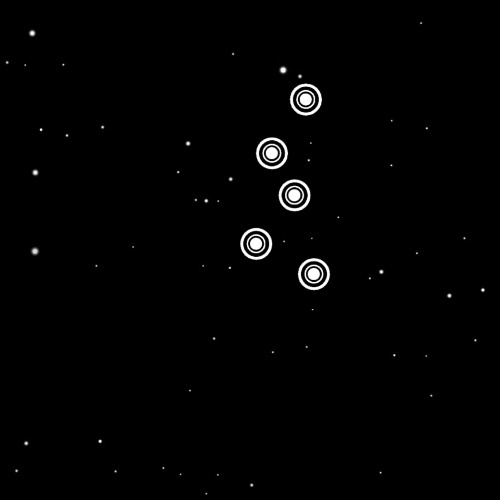cassiopeia: (227, 69, 344, 299)
